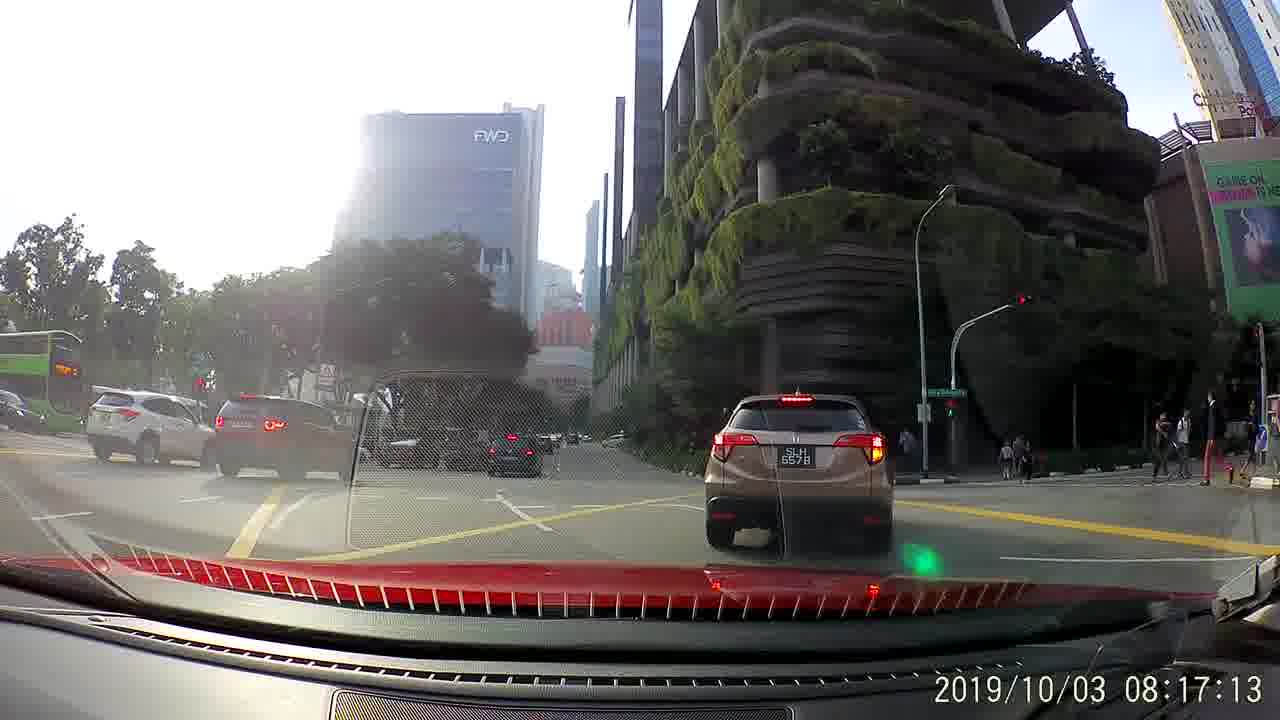bus: (0, 326, 92, 445)
car: (706, 395, 903, 550), (213, 386, 360, 486), (85, 389, 215, 469), (482, 430, 546, 476), (0, 379, 45, 432), (382, 432, 442, 468), (598, 431, 624, 448), (562, 429, 582, 448)
